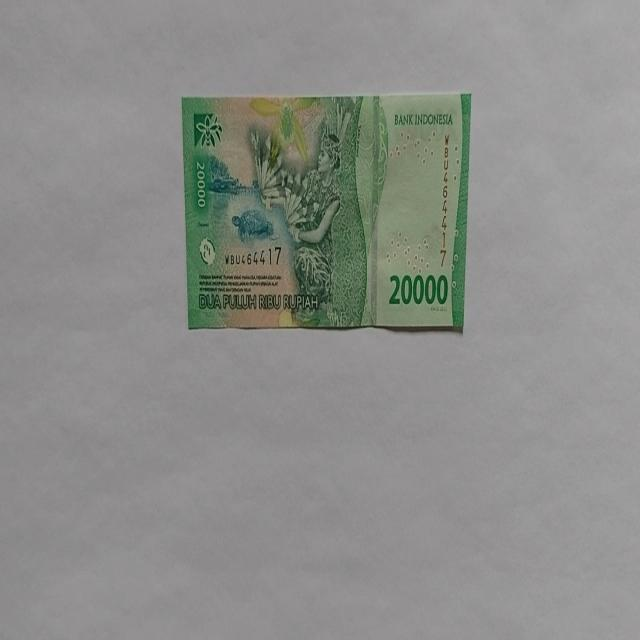dua puluh ribu rupiah: (181, 90, 471, 334)
